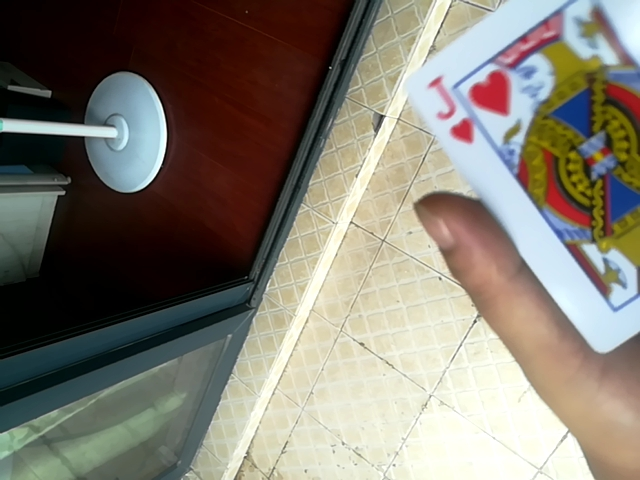hx j: (394, 8, 638, 368)
